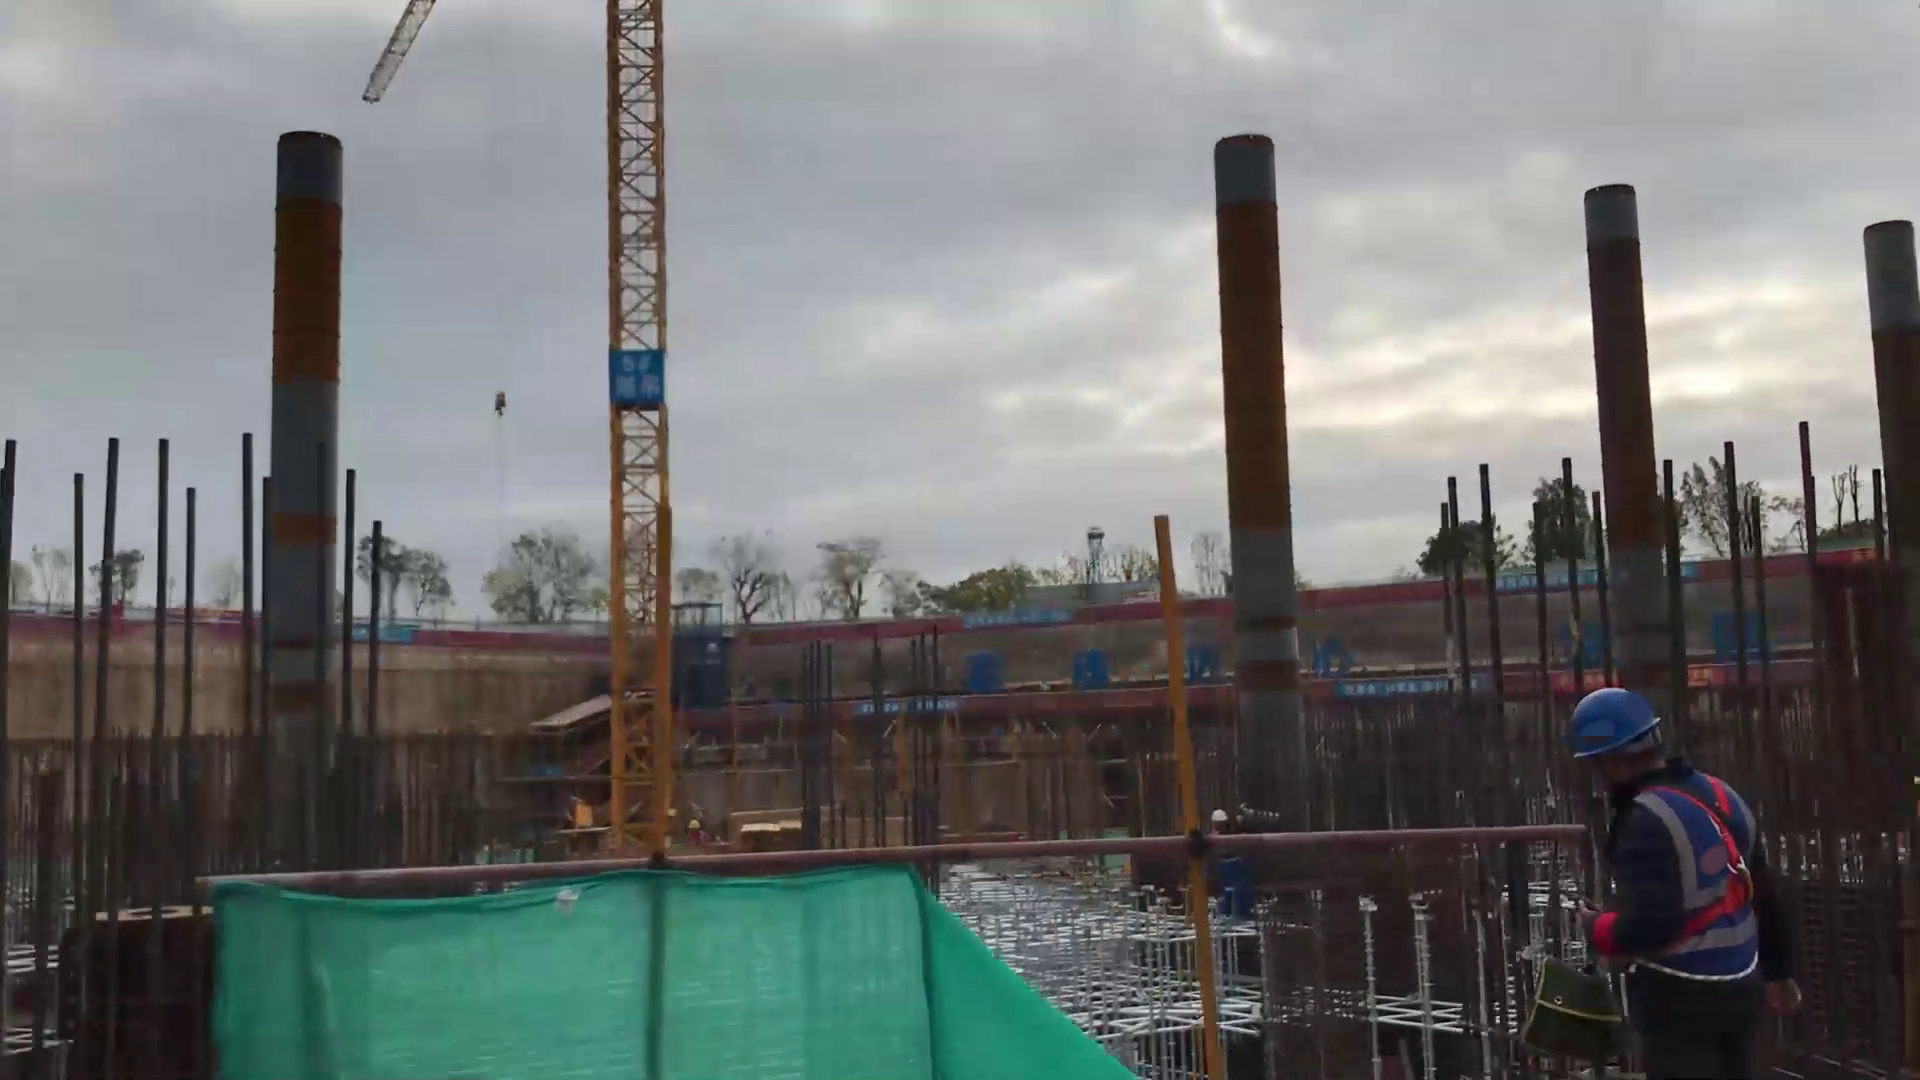helmet: (1570, 687, 1662, 761)
hook: (487, 384, 510, 420)
person: (1567, 682, 1783, 1080)
slogan: (1545, 663, 1730, 693), (1339, 676, 1491, 696), (1494, 567, 1611, 592), (336, 621, 416, 645), (854, 700, 966, 711), (963, 613, 1073, 624)
vest: (1626, 777, 1757, 977)
